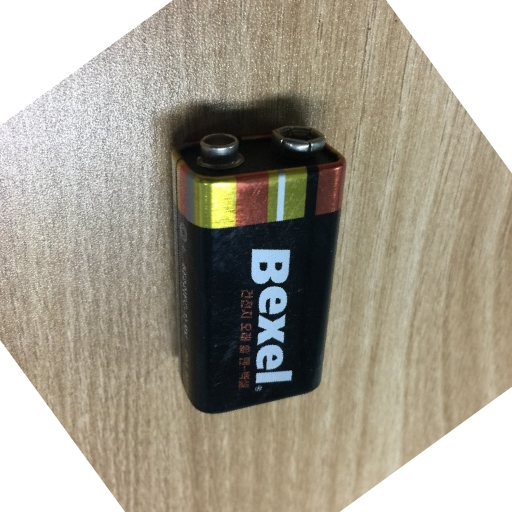Battery_3: (142, 105, 356, 424)
